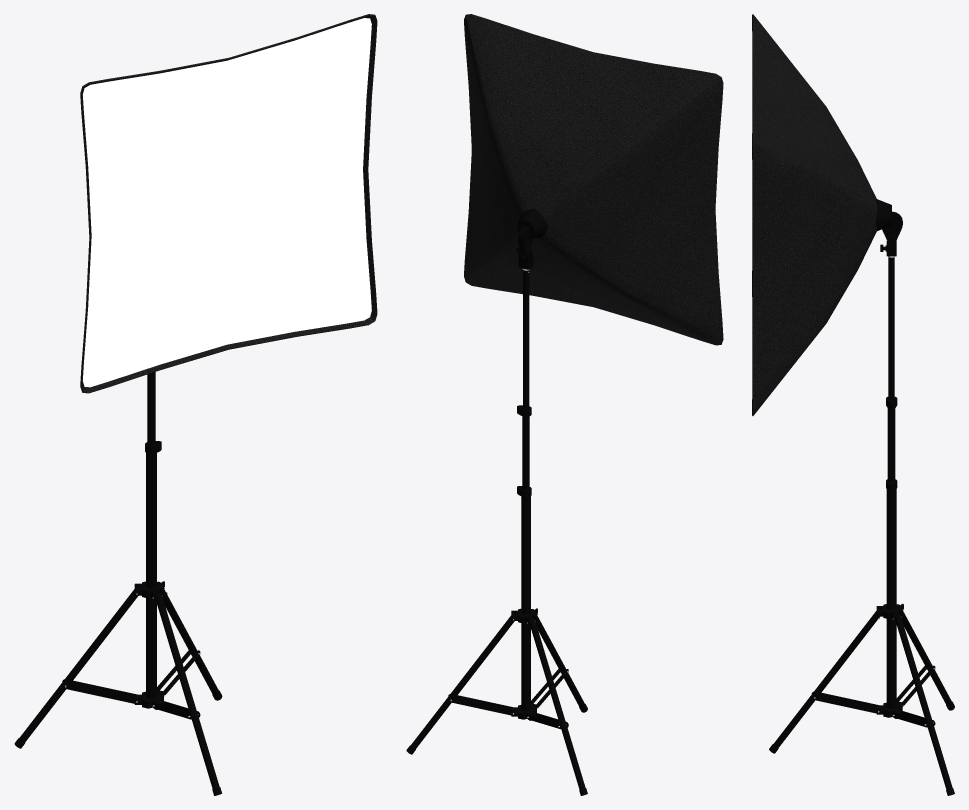
File: Spot-Luz.glb
3 renders of one model, left to right at view 1: azimuth 30°, elevation 25°; view 2: azimuth 150°, elevation 25°; view 3: azimuth 270°, elevation 25°, orthographic. The views are drawn at different scales.
Parts seen in each view (by area): view 1: #LMP0001_Lightbox, #LMP0001_Bottom, #LMP0001_Middle; view 2: #LMP0001_Lightbox, #LMP0001_Bottom, #LMP0001_Top, #LMP0001_Middle; view 3: #LMP0001_Lightbox, #LMP0001_Bottom, #LMP0001_Top, #LMP0001_Middle.
Part boxes in pixels (x1,y1,x2,y2): #LMP0001_Lightbox: (80,14,377,393); #LMP0001_Bottom: (14,441,222,795); #LMP0001_Middle: (147,372,155,445); #LMP0001_Lightbox: (464,14,723,345); #LMP0001_Bottom: (406,486,587,795); #LMP0001_Top: (522,268,529,409); #LMP0001_Middle: (517,405,531,489); #LMP0001_Lightbox: (752,14,902,415); #LMP0001_Bottom: (769,479,954,795); #LMP0001_Top: (888,256,894,399); #LMP0001_Middle: (886,396,897,482).
Size of the model in its own units: 0.9287 by 2.26 by 0.6134.
1 material, 1 textured.
